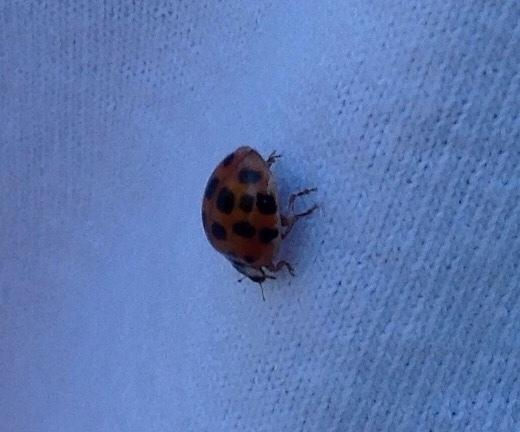ladybug: (202, 144, 323, 304)
